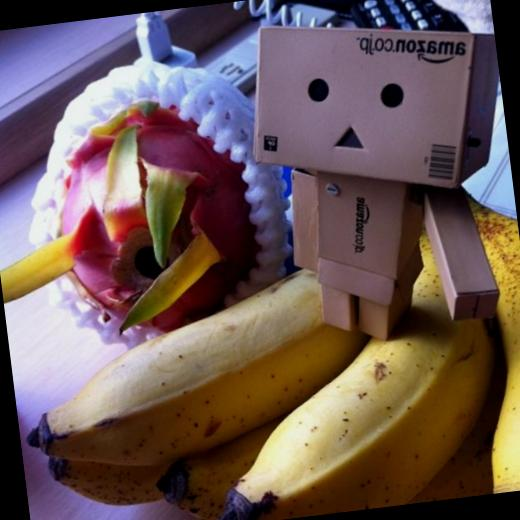Banana: (1, 177, 520, 520), (202, 218, 518, 518), (454, 181, 520, 492)
